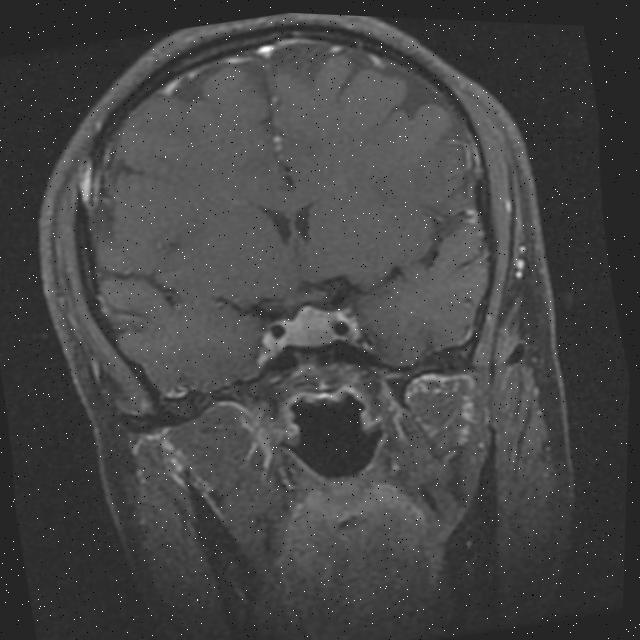Pituitary: (278, 298, 343, 355)
